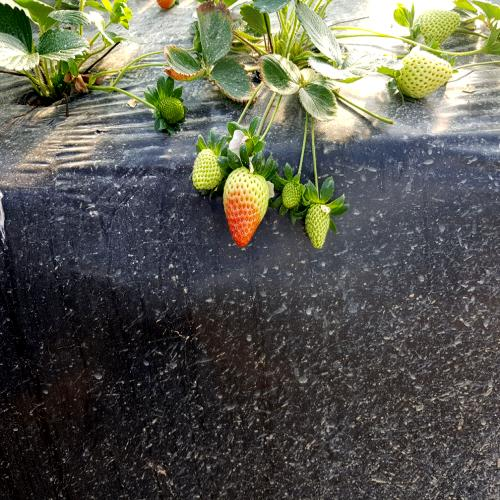partially-ripe: (221, 161, 273, 244)
